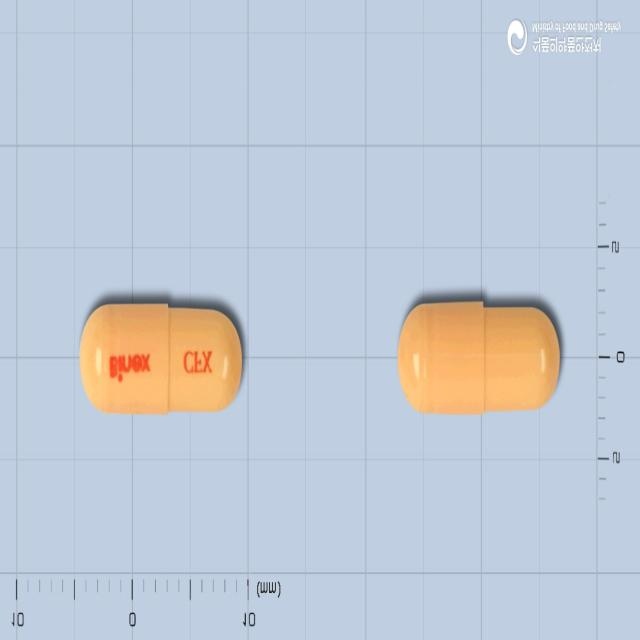Cefixime Cap: (77, 296, 247, 418)
